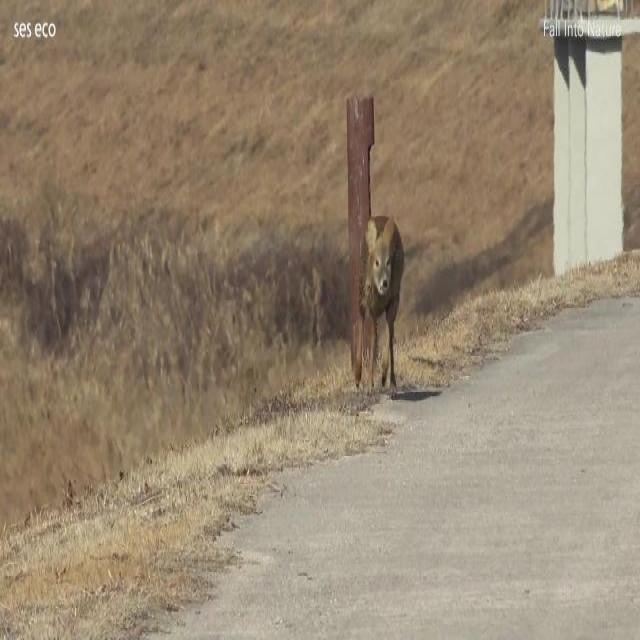deer: (354, 213, 406, 398)
